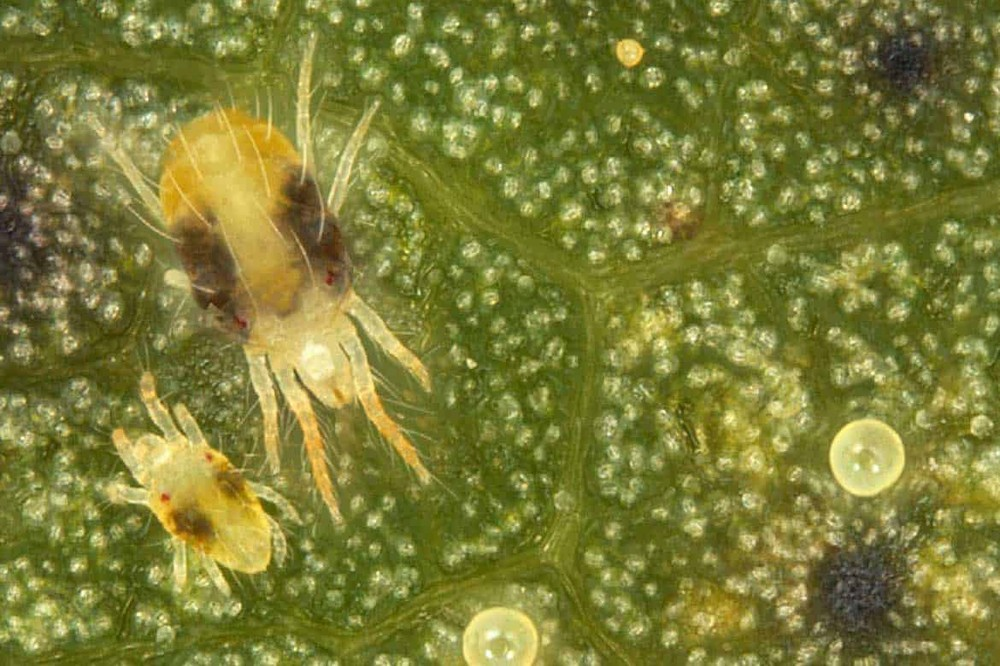Aracnido Rojo: (100, 69, 474, 514), (76, 367, 313, 605)
